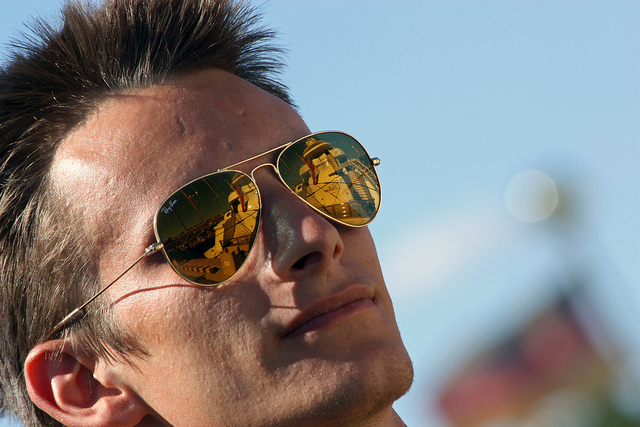sunglasses: (137, 135, 369, 280), (150, 135, 374, 281), (150, 135, 375, 251), (137, 135, 374, 223), (137, 135, 369, 212)
